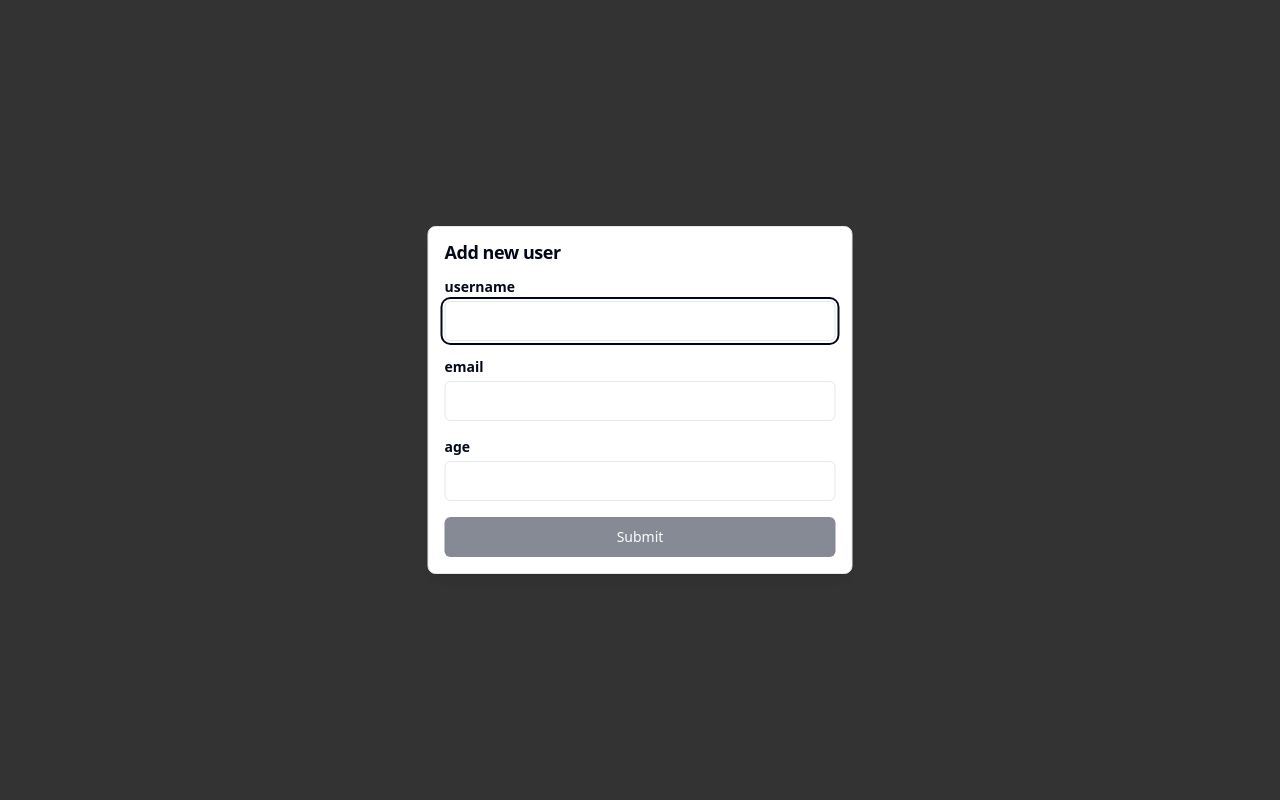
Test: AddNewUserDialog › enables the submit button when all fields are filled
Check: the field below "email" is shown, box [444,381,836,421]
Check: the field below "age" is shown, box [444,461,836,501]
Enter some values into the inputs
Type "JohnDoe" into the field below "username" at (640, 321), box [444,301,836,341]
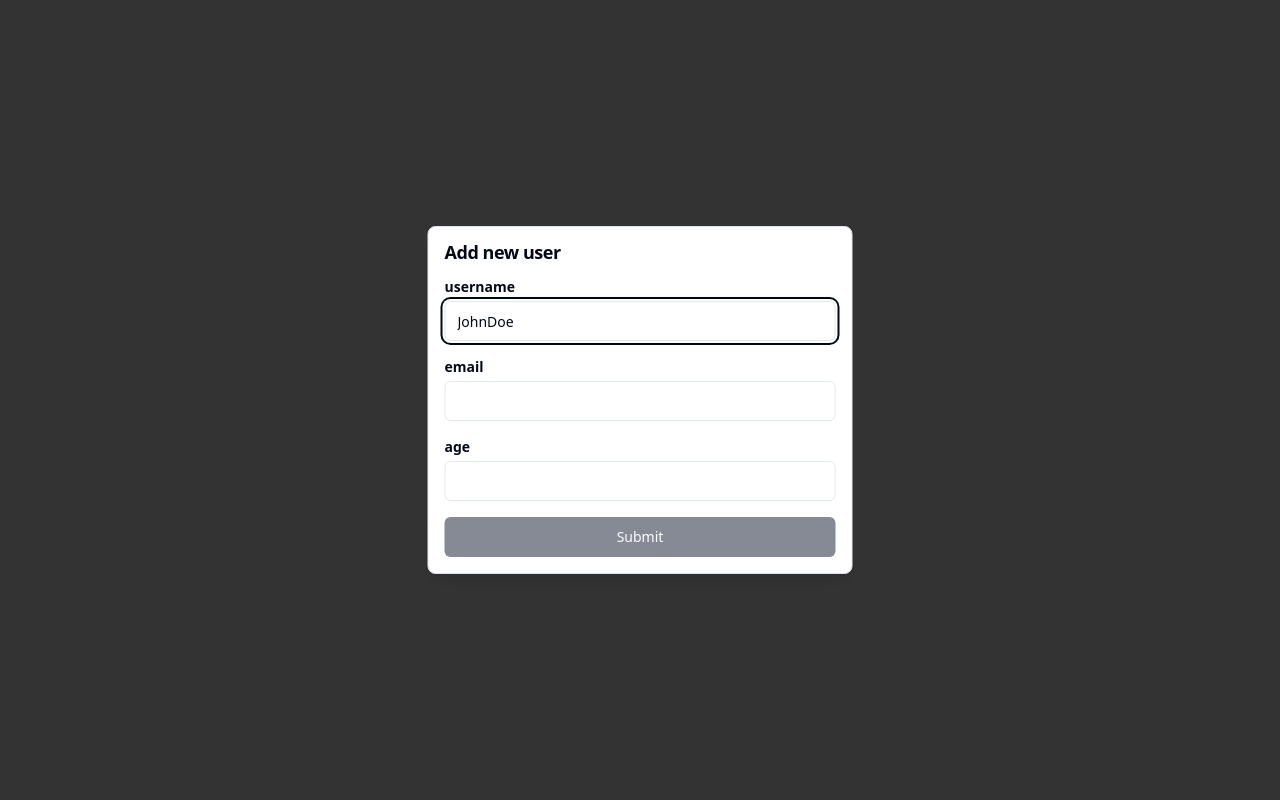
Type "johndoe@example.com" into the field below "email" at (640, 401), box [444,381,836,421]
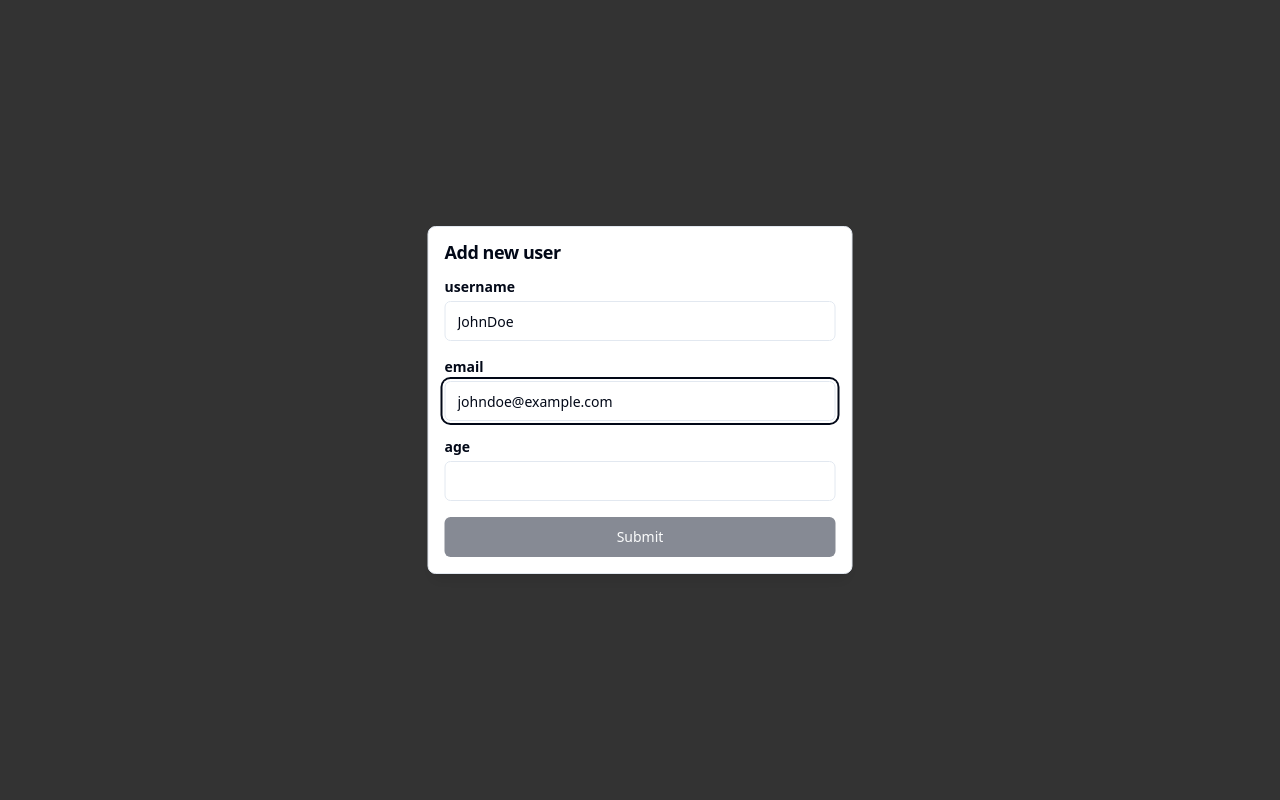
Type "30" into the field below "age" at (640, 481), box [444,461,836,501]
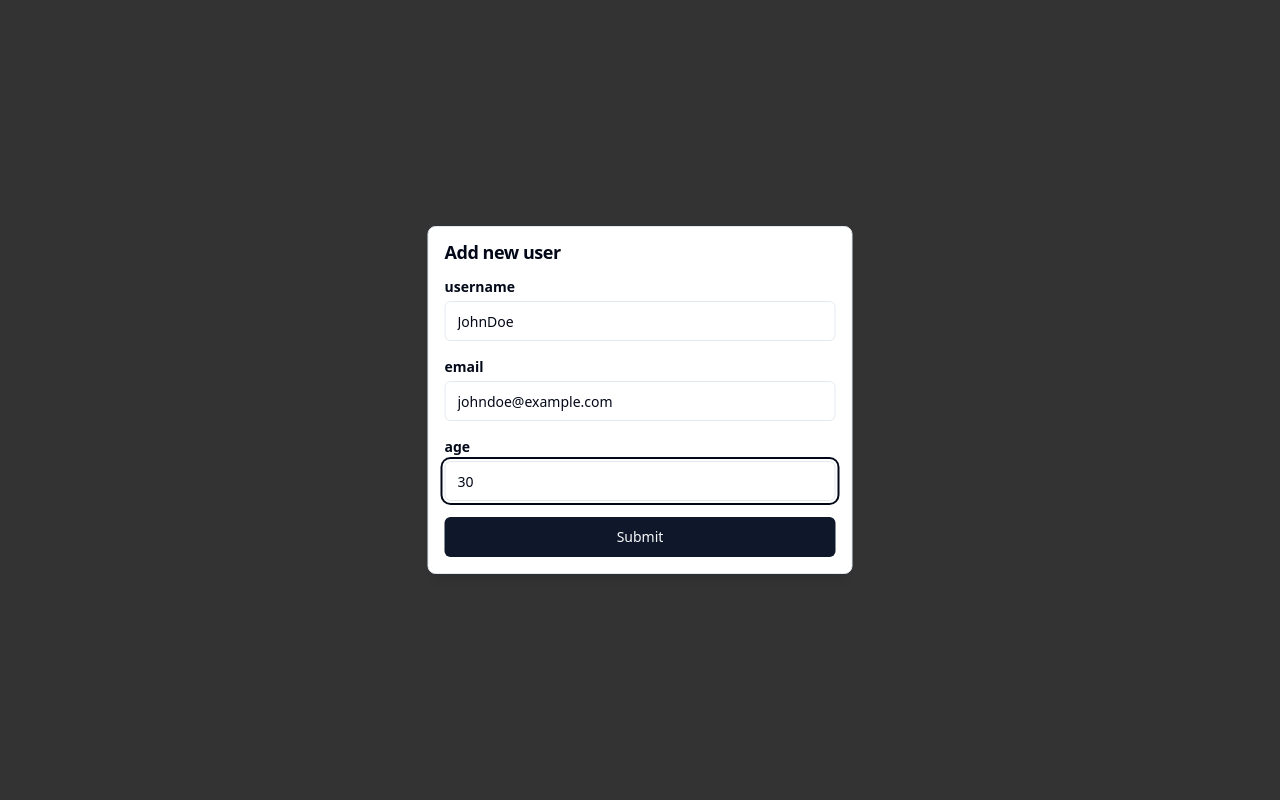
Check: the button "Submit" is enabled, box [444,517,836,557]
